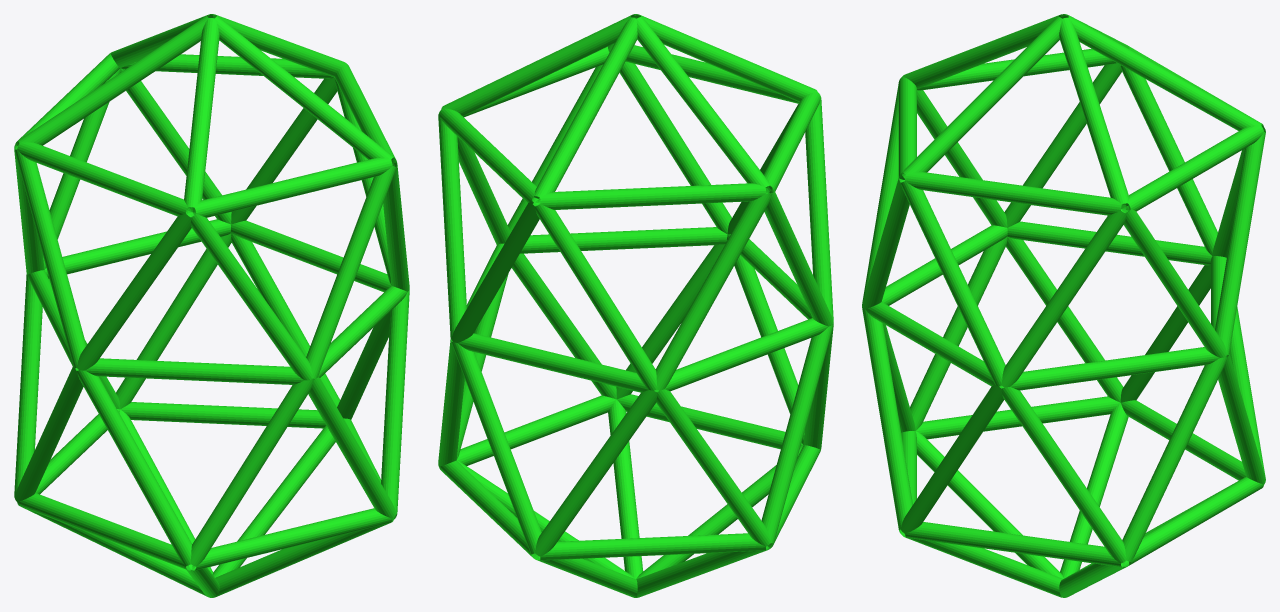
The model's file is trinexus1_2.glb.
The picture shows the model from 3 angles, left to right: view 1: azimuth 30°, elevation 25°; view 2: azimuth 150°, elevation 25°; view 3: azimuth 270°, elevation 25°; orthographic projection.
Parts seen in each view (by area): view 1: Mesh_2.001; view 2: Mesh_2.001; view 3: Mesh_2.001.
Part boxes in pixels (x1,y1,x2,y2): Mesh_2.001: [14, 14, 409, 597]; Mesh_2.001: [438, 14, 833, 597]; Mesh_2.001: [862, 14, 1265, 597].
Bounding box in the file's own units: 2.55 × 4.23 × 2.67.
